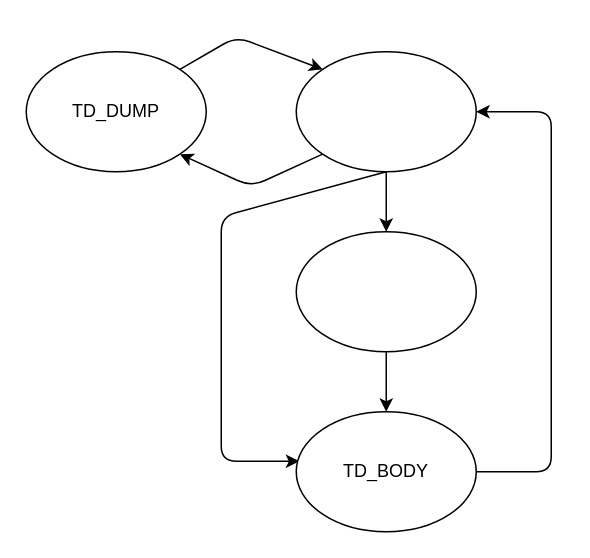
Some shapes in this 590 by 558 pixel diagram are drawn without their labels. Here are the shapes that lost their labels. From the top down, the box of each, then its label:
(295, 50, 476, 172): TD_HEAD
(295, 230, 476, 352): TD_TIME
